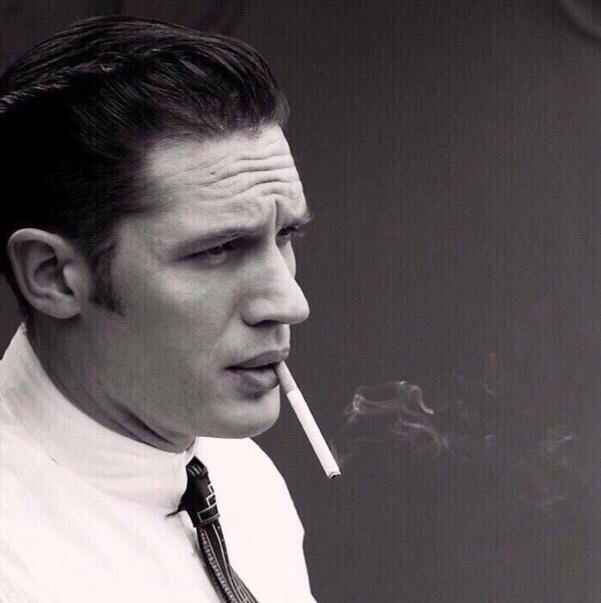cigarette: (273, 359, 340, 478)
